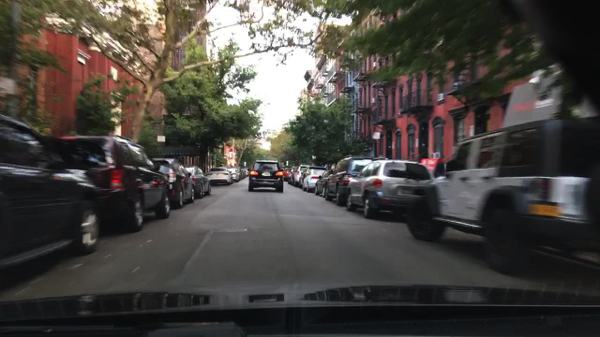car: (404, 74, 598, 274), (1, 114, 100, 272), (42, 134, 172, 233), (345, 154, 433, 219), (324, 154, 380, 207), (153, 155, 196, 208), (247, 159, 284, 193), (183, 163, 212, 198), (299, 165, 330, 193), (312, 167, 332, 197), (206, 165, 232, 186), (226, 166, 239, 183), (286, 169, 297, 187), (284, 169, 297, 183), (235, 166, 244, 180), (242, 169, 249, 178)
traffic sign: (372, 133, 381, 140), (157, 136, 166, 142)
